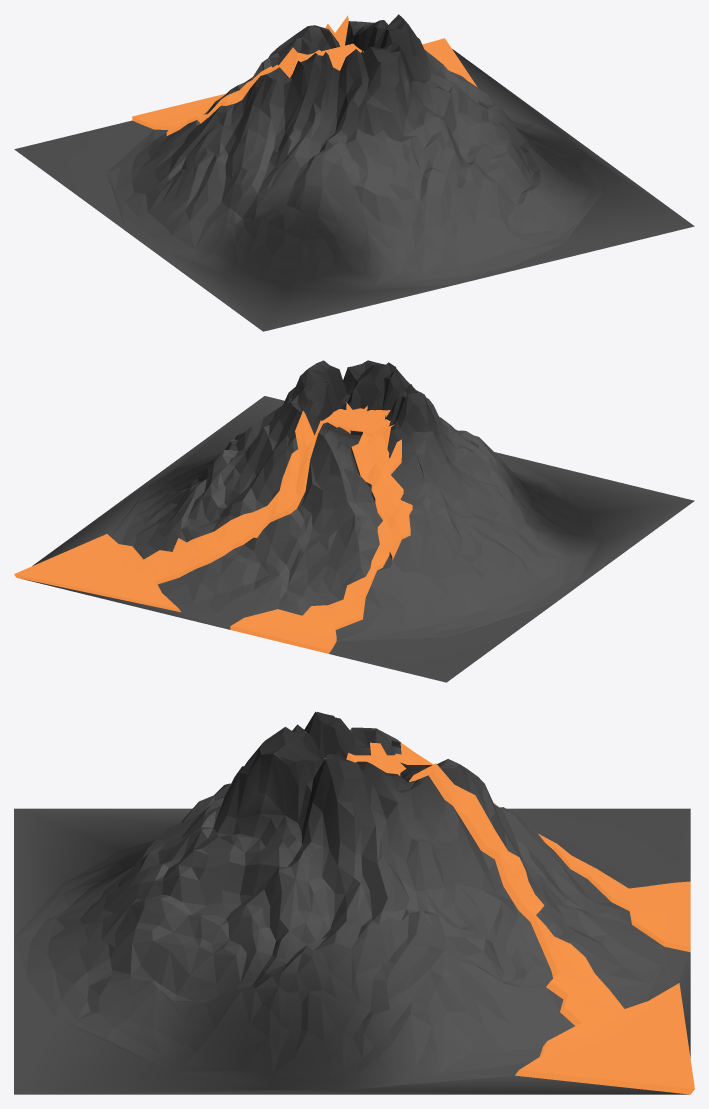
Rendered from volcano.glb.
3 views of the same model, one above another, from view 1: azimuth 30°, elevation 25°; view 2: azimuth 150°, elevation 25°; view 3: azimuth 270°, elevation 25° (orthographic). The views are drawn at different scales.
Parts seen in each view (by area): view 1: Volcano, Lava; view 2: Volcano, Lava; view 3: Volcano, Lava.
Boxes of the visible parts, box(x1,y1,x2,y2) form: Volcano: box(14, 14, 694, 331); Lava: box(301, 43, 363, 70); Volcano: box(14, 360, 694, 682); Lava: box(323, 408, 390, 437); Volcano: box(14, 711, 694, 1094); Lava: box(324, 755, 400, 775).
Size of the model in its own units: 2 by 0.7196 by 2.01.
